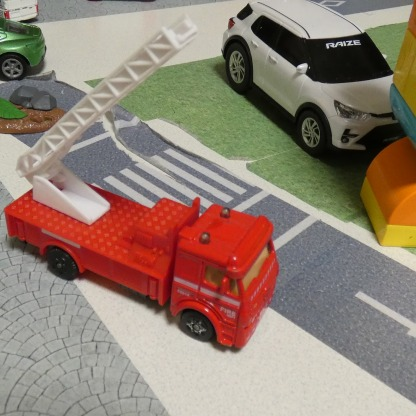car: (5, 165, 278, 355), (219, 0, 410, 164), (0, 21, 53, 77)
